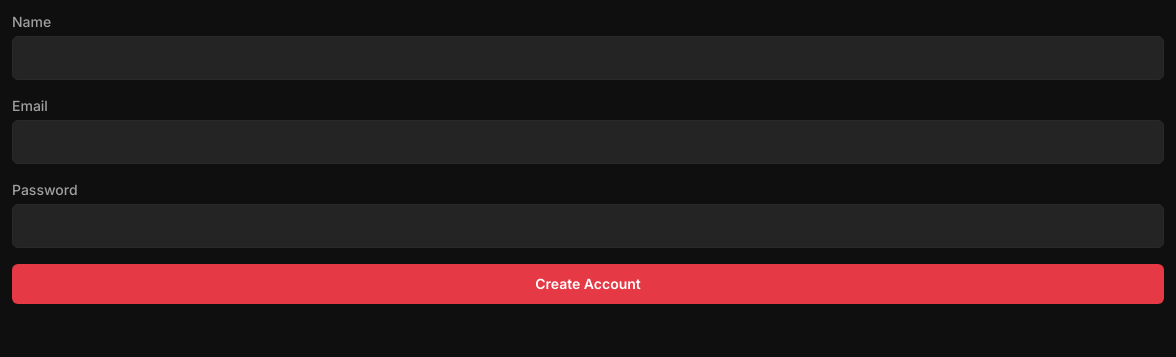
Test: RegisterForm › shows API error when registration fails
In the field labelled "Name": point(588, 58) [12,36,1164,80], type "Test User"
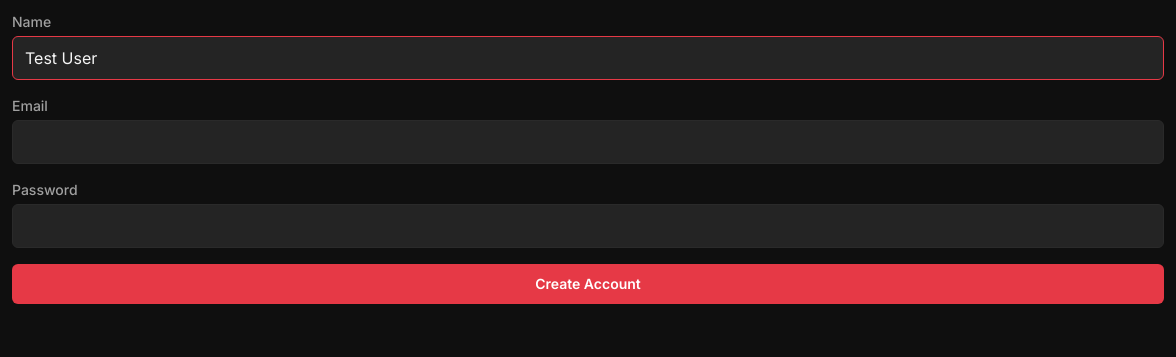
In the field labelled "Email": point(588, 142) [12,120,1164,164], type "existing@example.com"
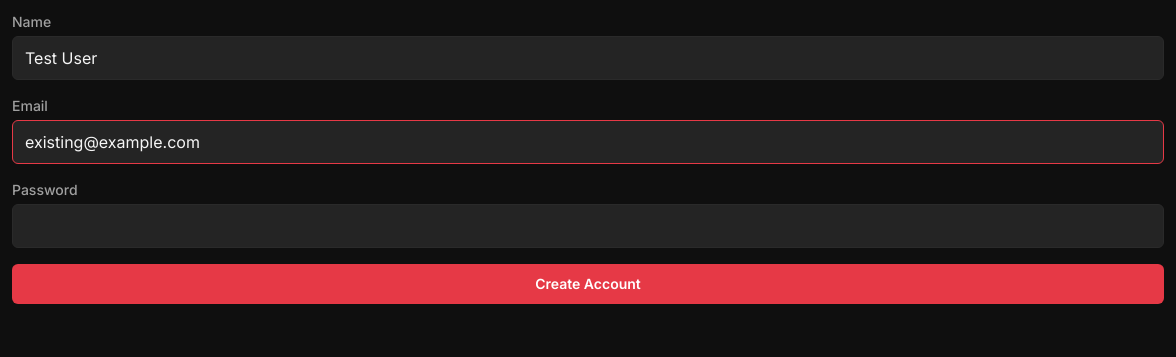
In the password field labelled "Password": point(588, 226) [12,204,1164,248], type "password123"
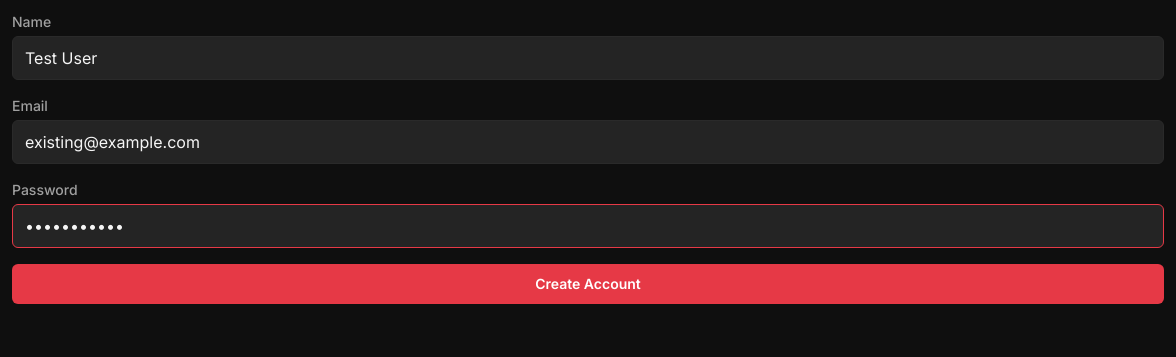
Click the button "Create Account": point(588, 284) [12,264,1164,304]
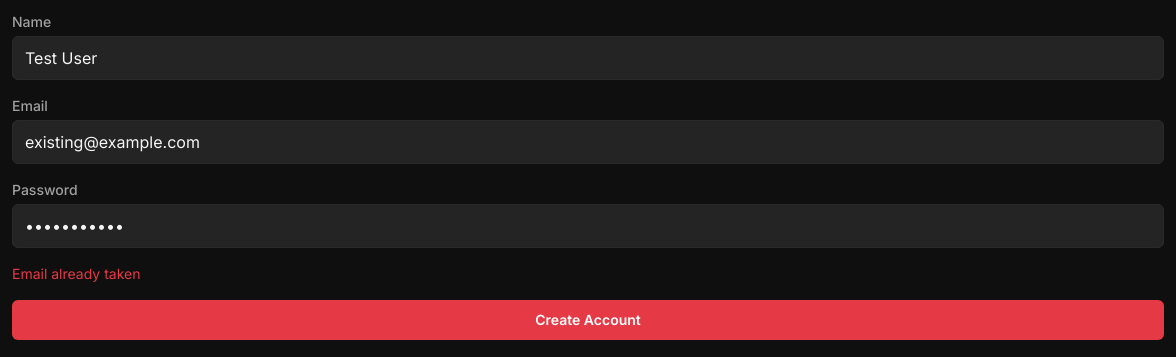
Check: the text "Email already taken" is shown, box [12,265,140,282]
